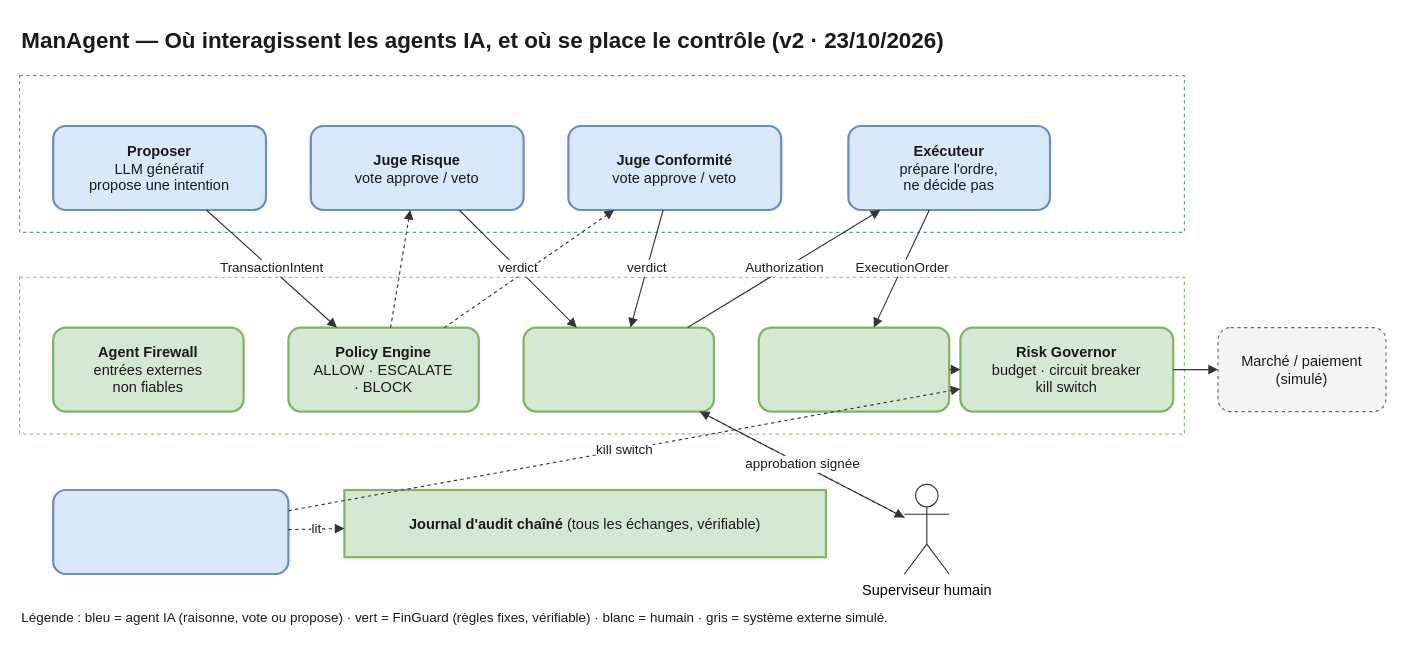
The diagram is 1406 pixels wide and 665 high, and some of its shapes have lost their labels. The shapes that lost their labels are listed below. From the top down, each one's box as (x1, y1, x2, y2) in pixels, then its label:
(18, 74, 1184, 232): AGENTS IA : ils interagissent et décident (bleu)
(18, 276, 1184, 434): MANAGENT : plan de contrôle déterministe, sans LLM (vert)
(522, 326, 715, 412): Quorum pondéré 2 sur 2 poids = Trust Score
(757, 326, 950, 412): Integrity Engine ordre = autorisation ?
(52, 488, 289, 575): Superviseur méta-agent observe, ne décide pas
